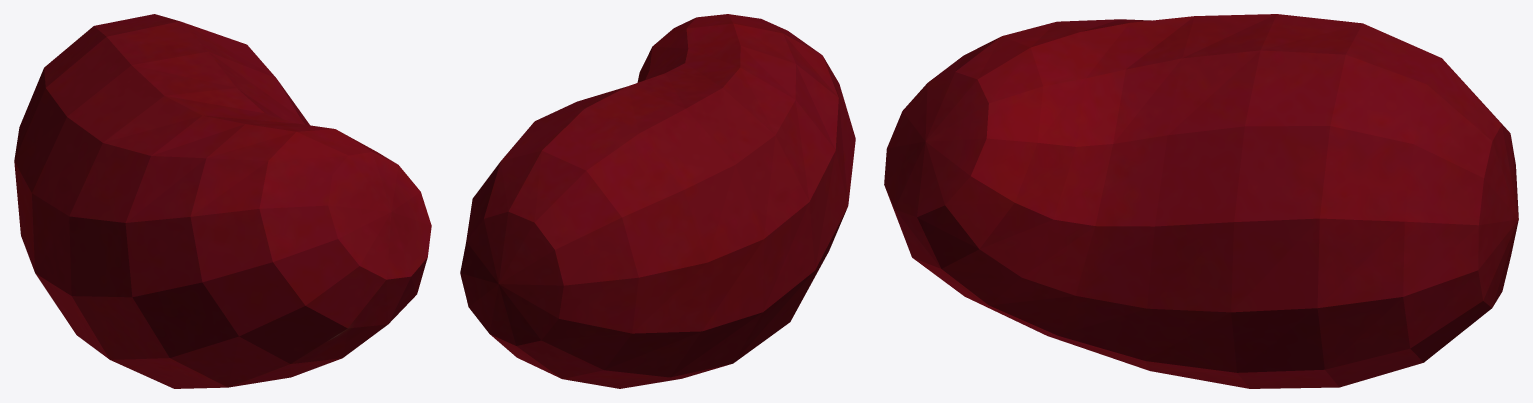
Rendered from kidney_R_LP.glb.
The picture shows the model from 3 angles, left to right: view 1: azimuth 30°, elevation 25°; view 2: azimuth 150°, elevation 25°; view 3: azimuth 270°, elevation 25°; orthographic projection. The views are drawn at different scales.
Parts seen in each view (by area): view 1: kidney_R_LP; view 2: kidney_R_LP; view 3: kidney_R_LP.
Boxes of the visible parts, bbox=[...] form: kidney_R_LP: bbox=[14, 14, 431, 388]; kidney_R_LP: bbox=[460, 14, 855, 388]; kidney_R_LP: bbox=[884, 14, 1518, 388].
Size of the model in its own units: 0.000811 by 0.000809 by 0.00137.
Materials: 1 (1 with a texture image).
